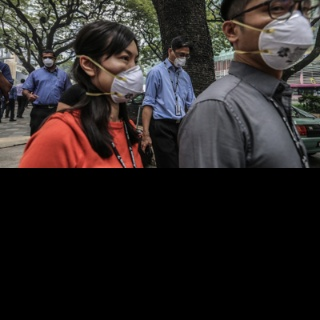with_mask: (239, 0, 316, 70), (96, 48, 145, 103), (172, 51, 190, 68), (41, 54, 54, 68)
